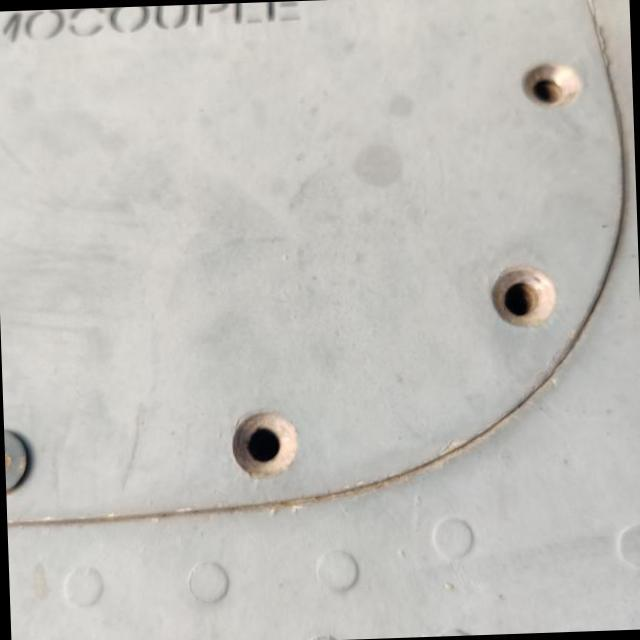Fastener Damage: (198, 386, 328, 518), (456, 235, 590, 358), (498, 24, 615, 142)
